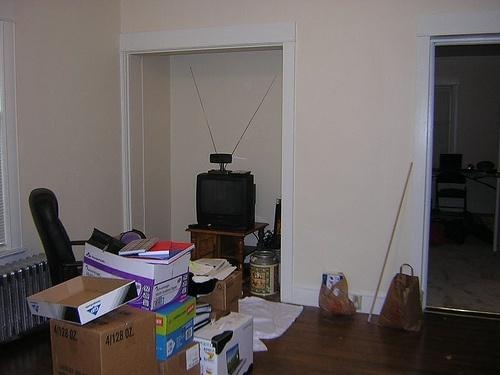chair: (27, 187, 91, 284), (436, 172, 469, 222)
tvmonitor: (196, 170, 257, 232)
